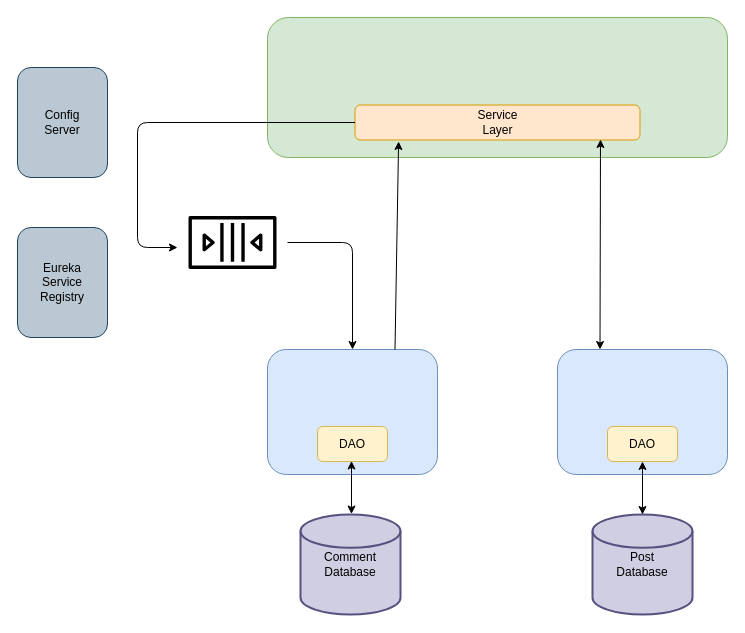
This 745x633 diagram has some shape labels left out. The shapes that lost their labels are listed below. From the top down, each one's box as (x1, y1, x2, y2) in pixels, then its label:
(266, 16, 728, 158): Stwitter Service
(176, 186, 288, 298): Comment Queue Consumer
(266, 348, 438, 474): Comment Service
(556, 348, 728, 474): Post Service
